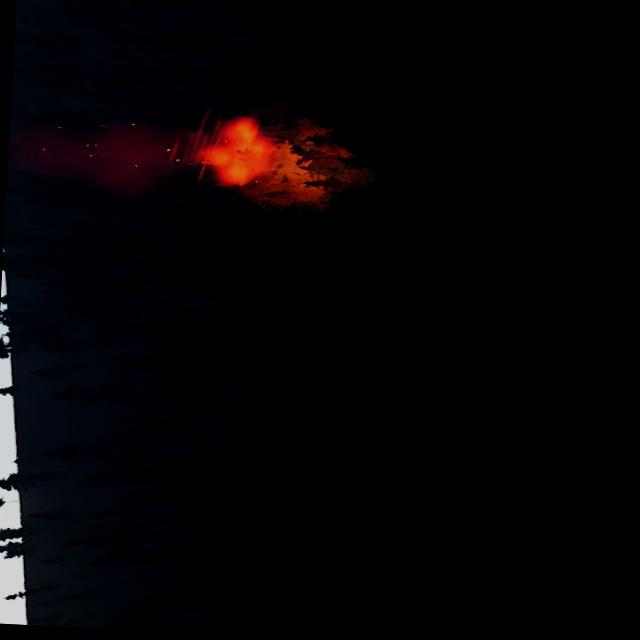fire: (183, 112, 276, 185)
smoke: (6, 121, 172, 202)
